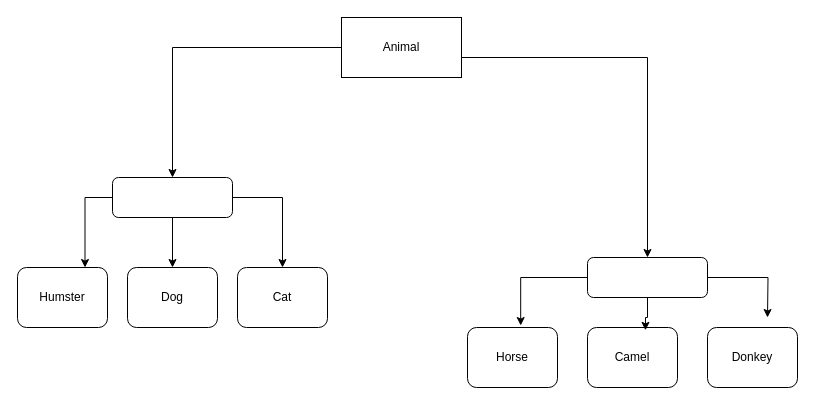
The diagram is 815 pixels wide and 405 high, and some of its shapes have lost their labels. Each missing label, with the centre of its shape:
Pack_Animal: the point at 647,277
Pets: the point at 172,197
